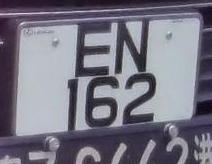1: (55, 72, 83, 141)
2: (121, 69, 162, 128)
6: (82, 74, 123, 134)
E: (71, 17, 125, 83)
N: (113, 15, 160, 81)
